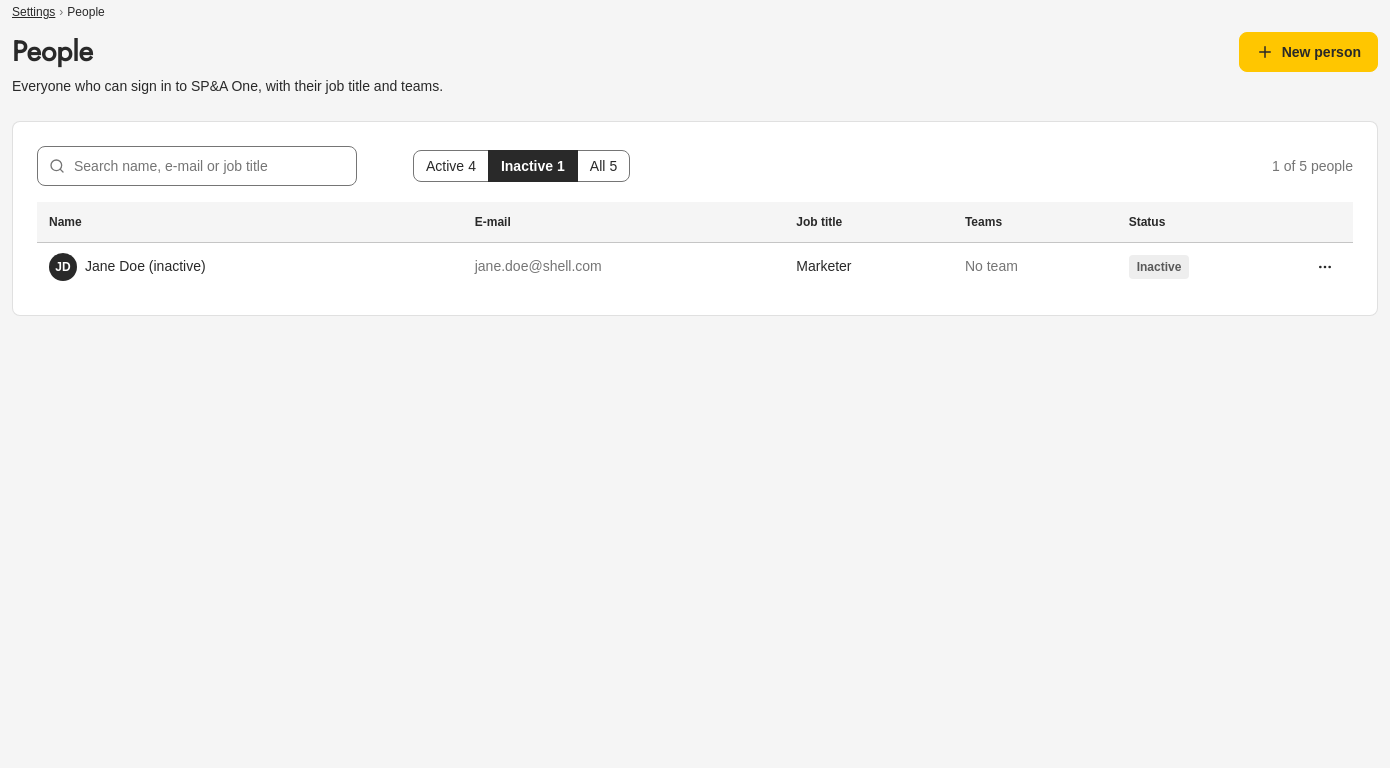
Test: PeoplePage (feature 003, US1): Deactivate and Reactivate › reactivates an inactive person (US1-7)
Click the button named "Actions for Jane Doe": (1325, 266) [1309,250,1341,282]
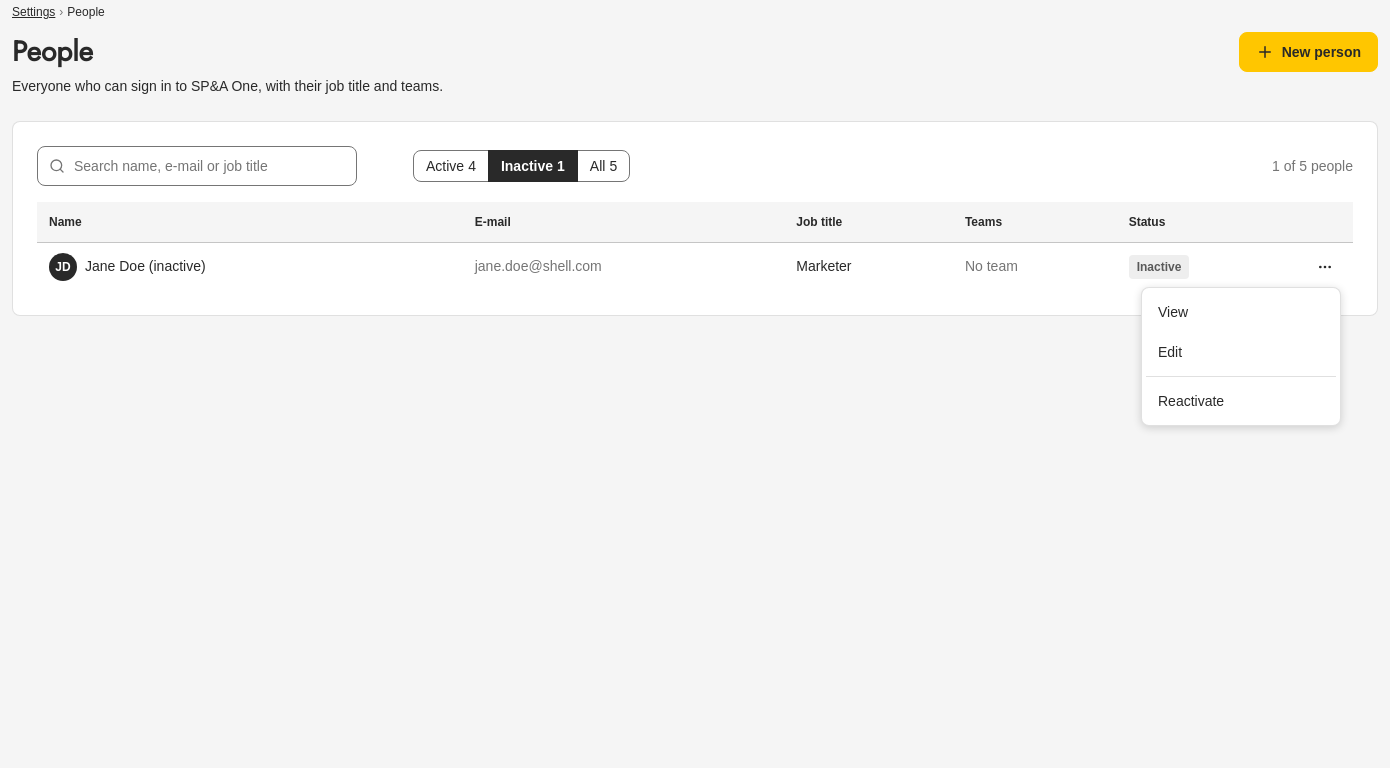
Click the menu item "Reactivate": (1191, 401) [1158,393,1224,409]
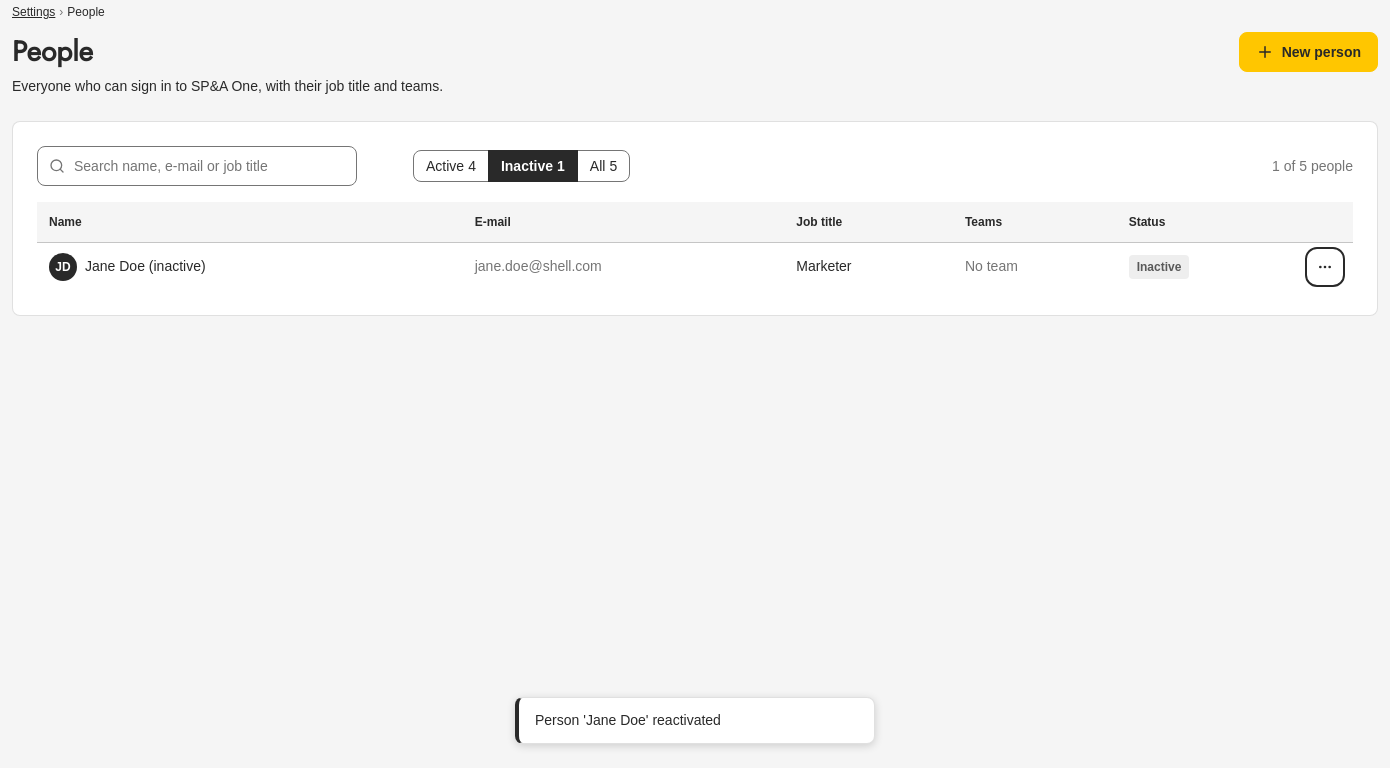
Expected: the text "Person 'Jane Doe' reactivated" is shown, [535,712,721,728]
